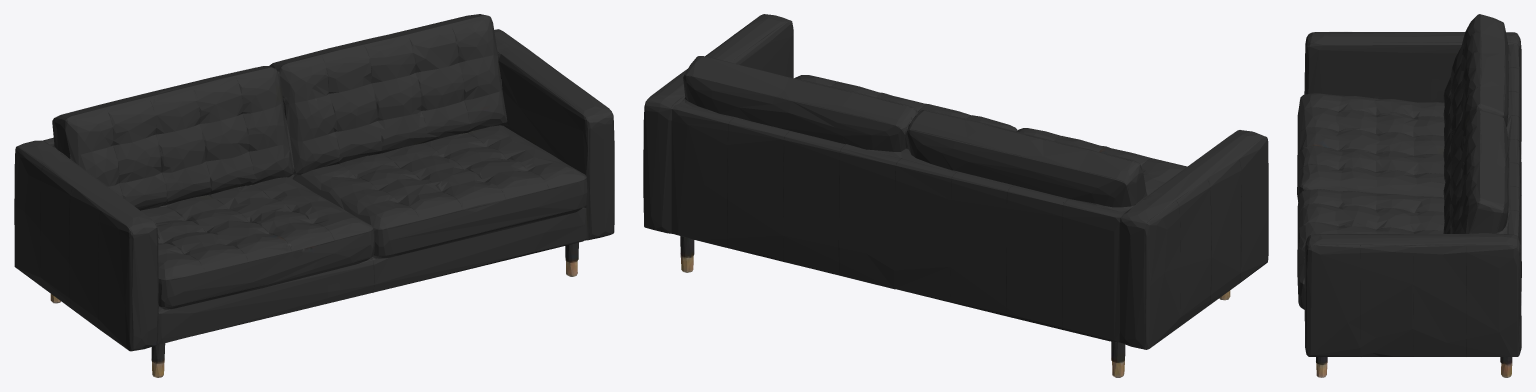
3 views of the same model, side by side, from view 1: azimuth 30°, elevation 25°; view 2: azimuth 150°, elevation 25°; view 3: azimuth 270°, elevation 25° (orthographic). The views are drawn at different scales.
Parts seen in each view (by area): view 1: ProcessedGeometry; view 2: ProcessedGeometry; view 3: ProcessedGeometry.
Part boxes in pixels (x1,y1,x2,y2): ProcessedGeometry: (14,14,614,377); ProcessedGeometry: (643,14,1268,377); ProcessedGeometry: (1297,14,1521,377).
Bounding box in the file's own units: 2.04 × 0.7799 × 0.8899.
Materials: 2 (2 with a texture image).
